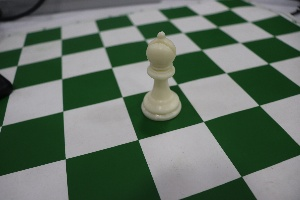white_bishop: (135, 20, 184, 124)
